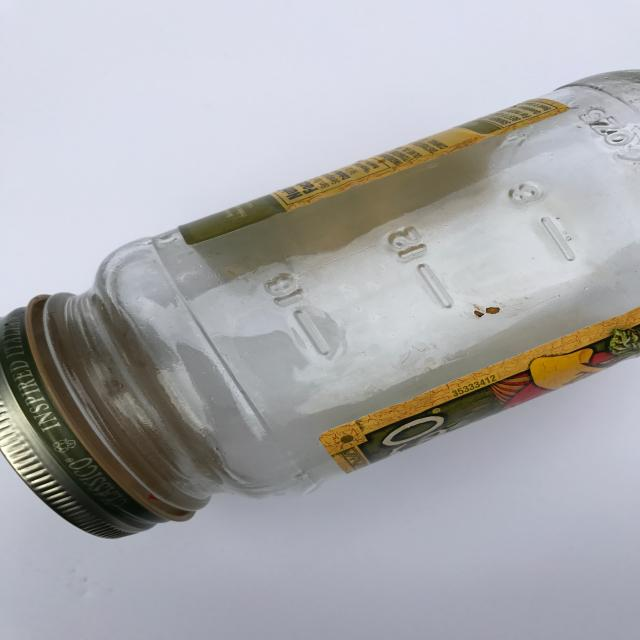glass: (1, 68, 639, 540)
